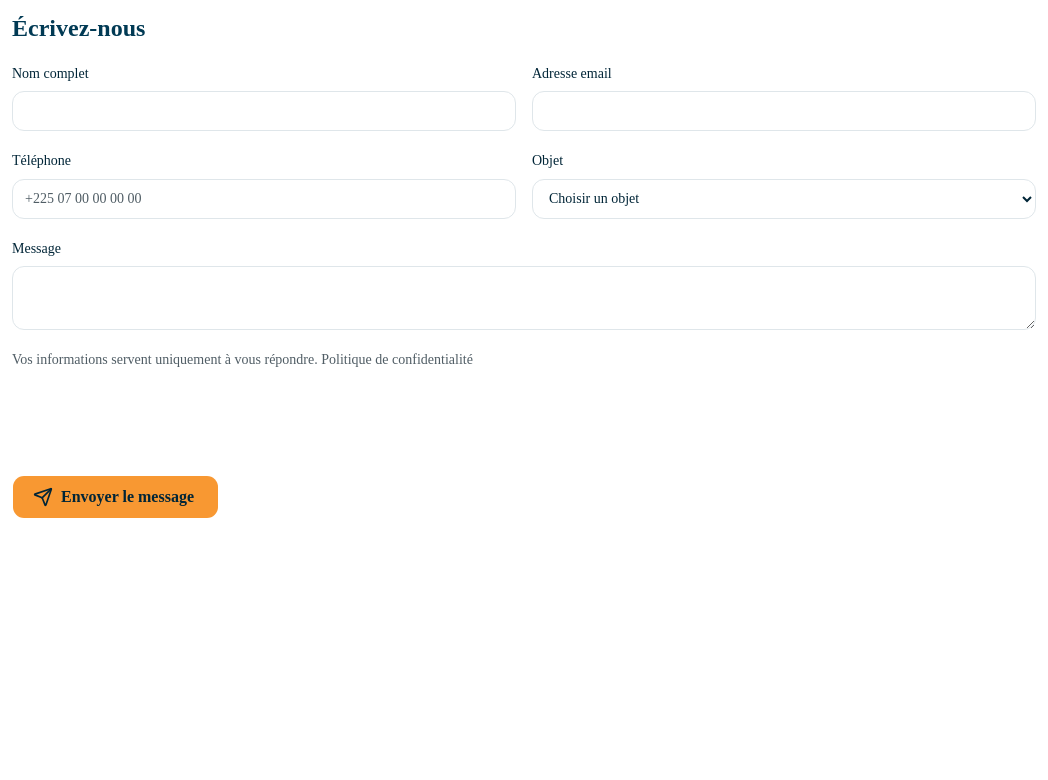
Test case: Turnstile › n'envoie rien tant que la vérification n'a pas abouti
Step 1. Type "Awa Koné" into the field labelled "Nom complet" → (264, 111), box [12, 91, 516, 131]
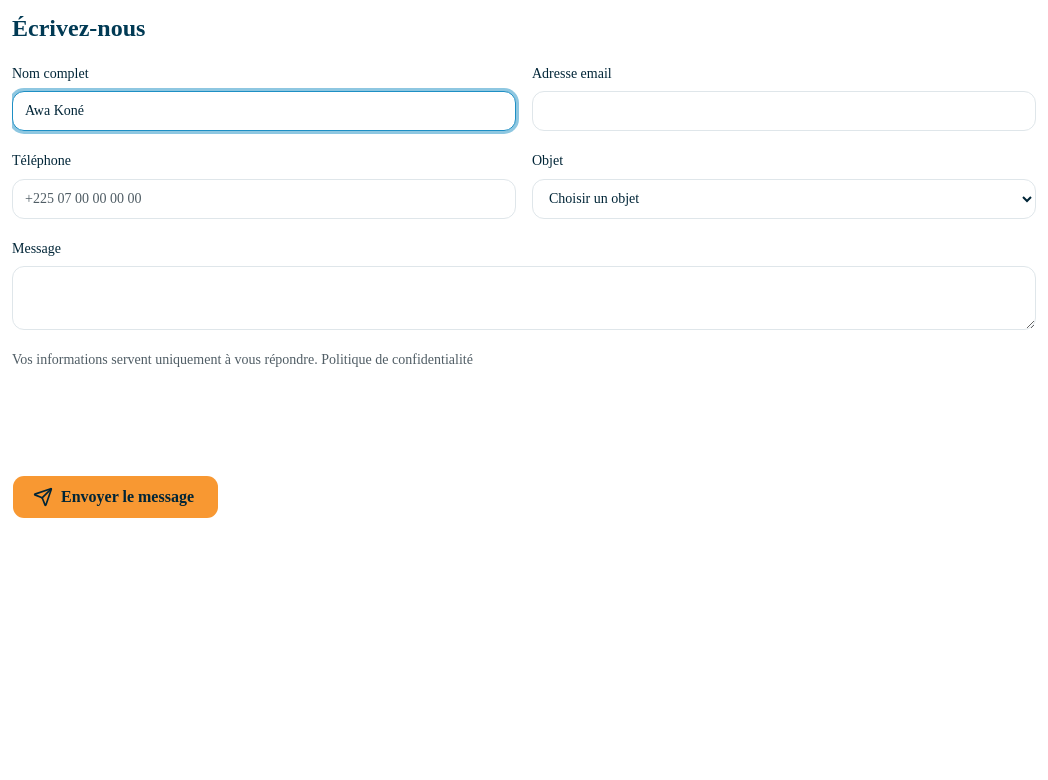
Step 2. Type "awa@example.com" into the field labelled "Adresse email" → (784, 111), box [532, 91, 1036, 131]
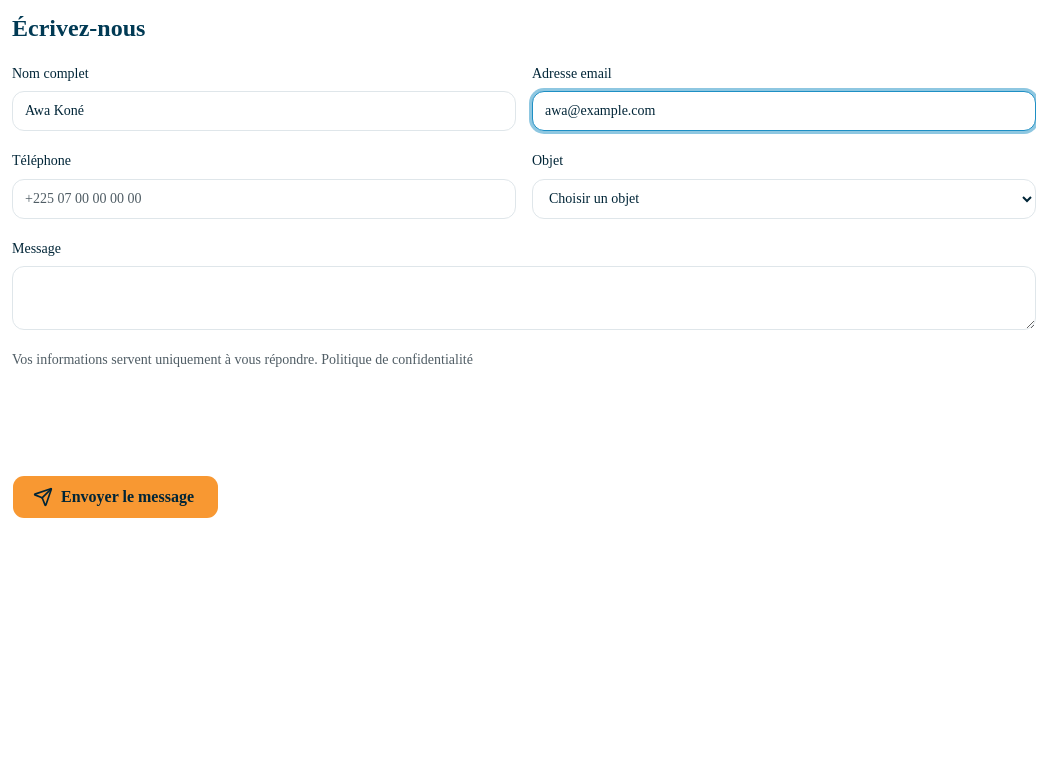
Step 3. Select "Visa et formalités" in the dropdown labelled "Objet" → (784, 198), box [532, 178, 1036, 218]
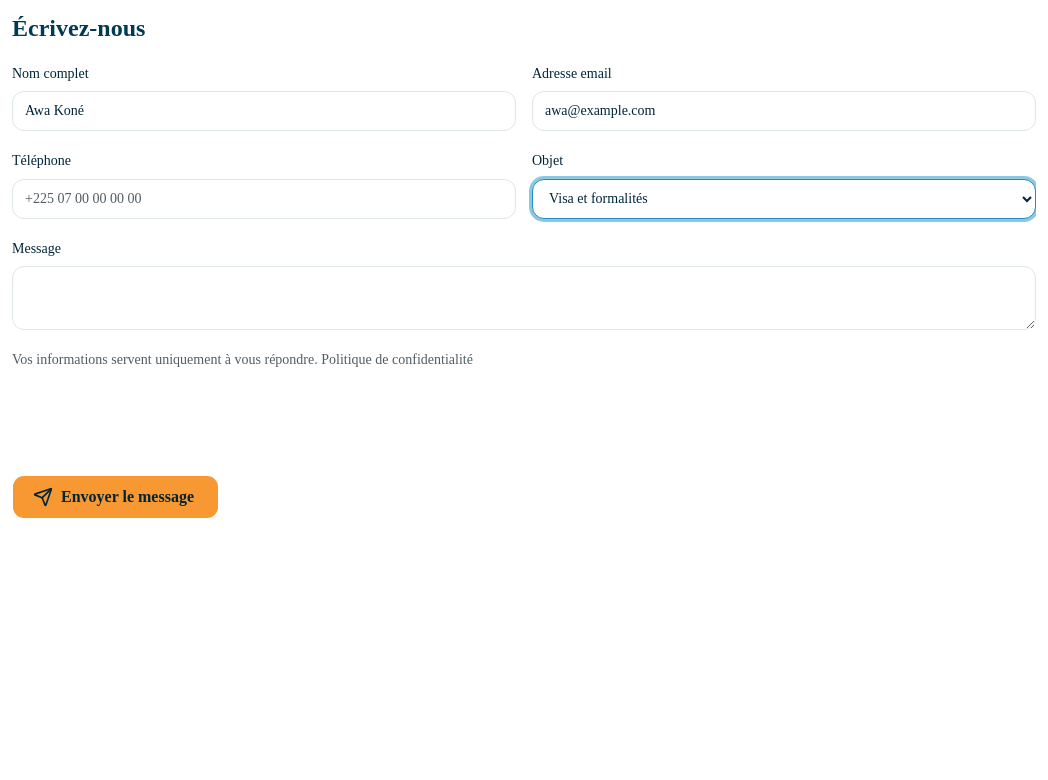
Step 4. Type "Quels documents pour un visa Schengen ?" into the text box labelled "Message" → (524, 298), box [12, 266, 1036, 330]
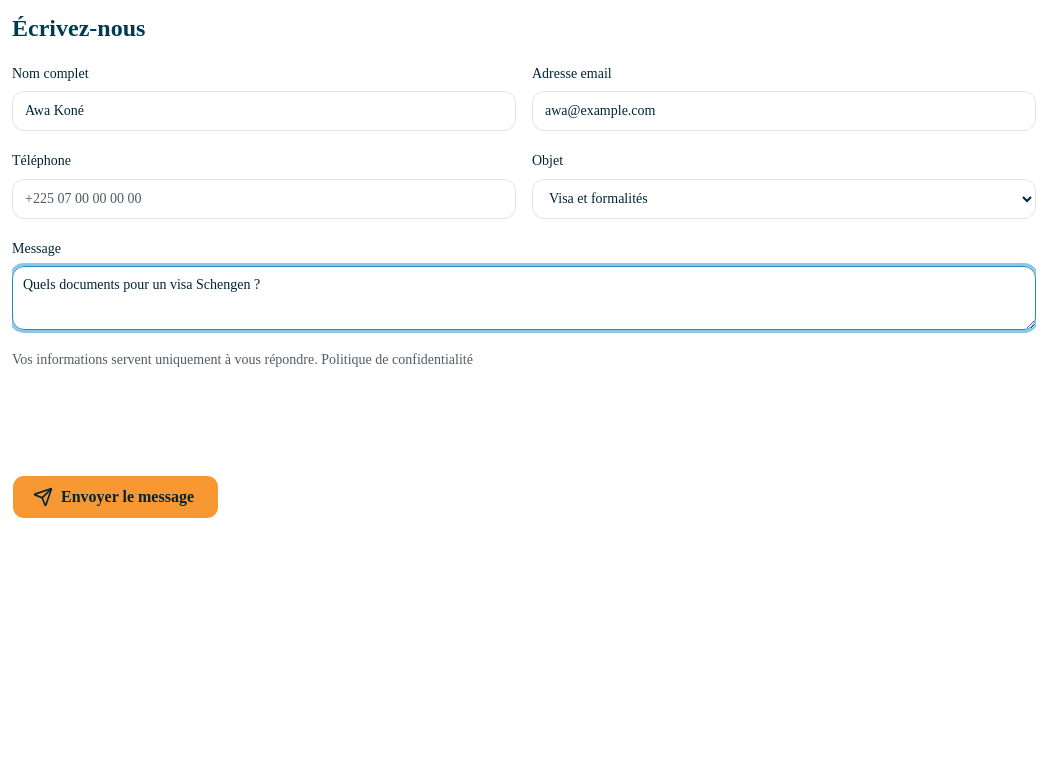
Step 5. Click the button "Envoyer le message" → (116, 497), box [12, 475, 219, 519]
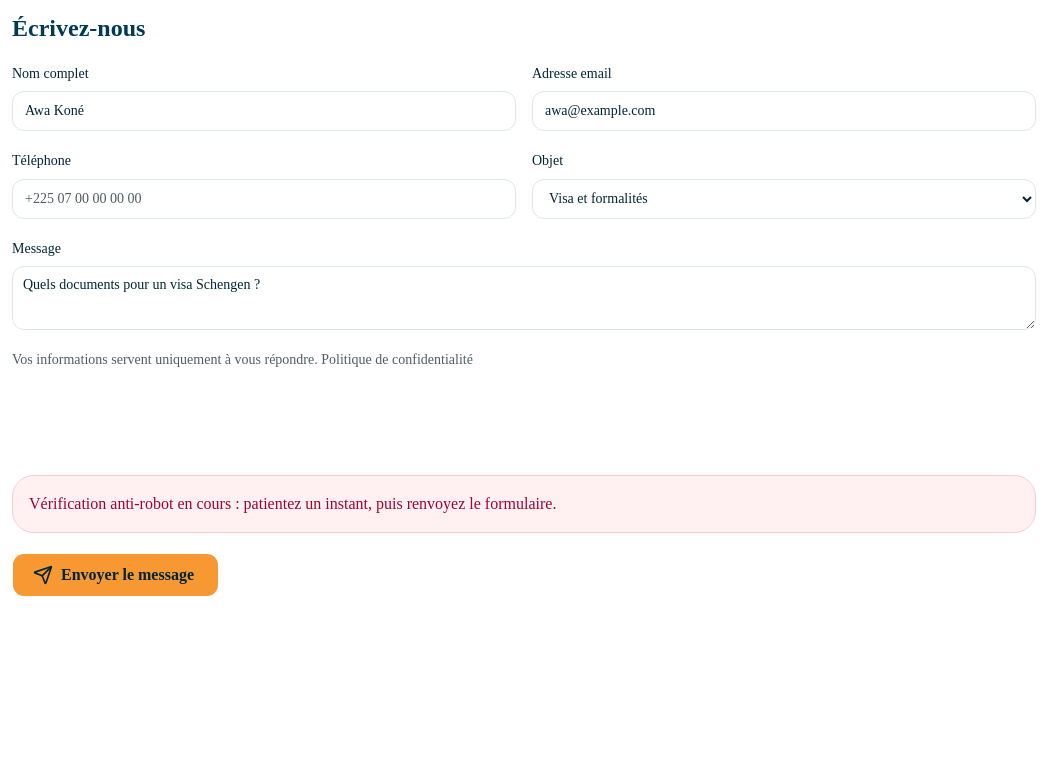
Expected: the message shows "Vérification anti-robot en cours", [29, 495, 556, 512]
